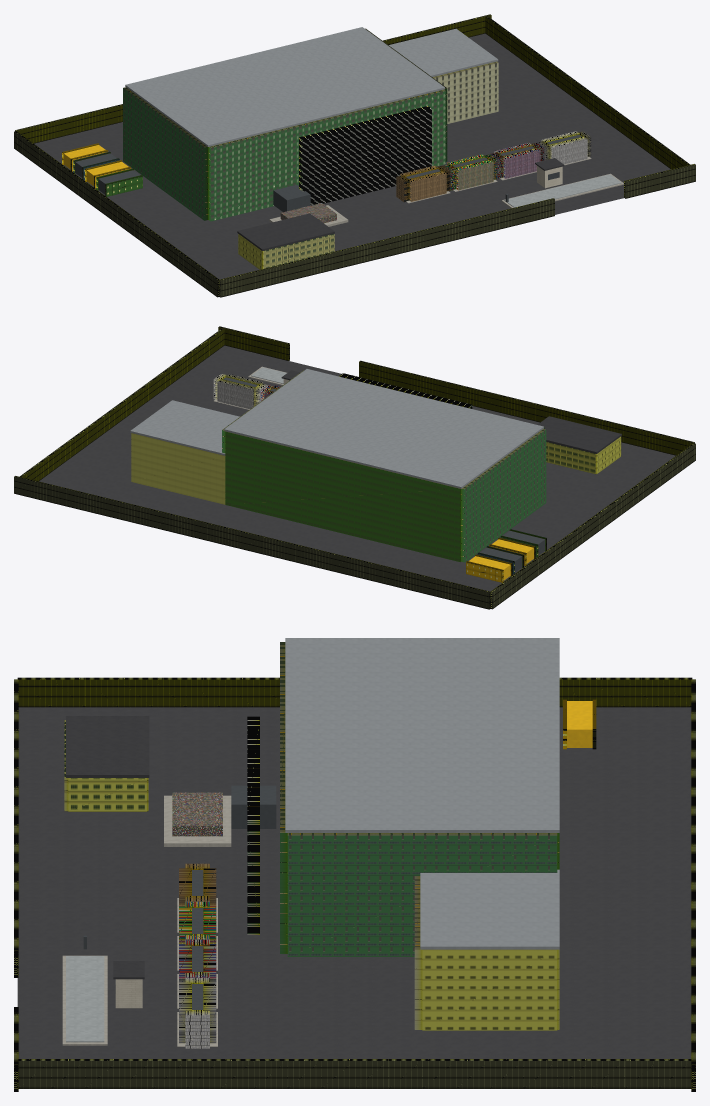
Rendered from recycling_center.glb.
3 renders of one model, top to bottom at view 1: azimuth 30°, elevation 25°; view 2: azimuth 150°, elevation 25°; view 3: azimuth 270°, elevation 25°, orthographic. The views are drawn at different scales.
Visible parts, largest first — view 1: recycling_center; view 2: recycling_center; view 3: recycling_center.
Part boxes in pixels (x1,y1,x2,y2): recycling_center: (14,14,695,297); recycling_center: (14,326,695,609); recycling_center: (14,638,695,1091).
Bounding box in the file's own units: 81.34 × 12.3 × 60.68.
Materials: 34 (34 with a texture image).
